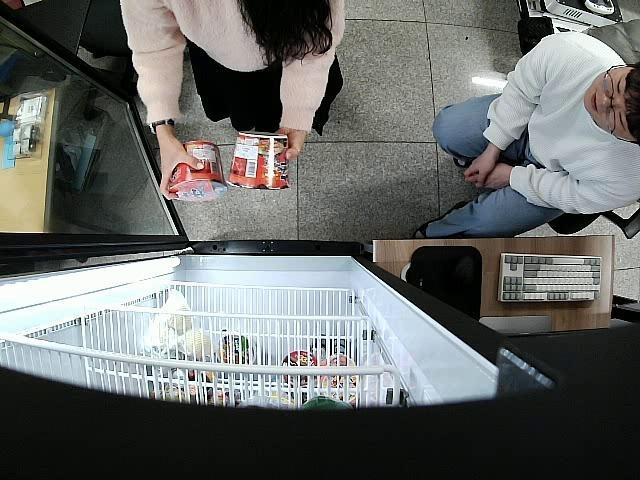01_ShinRamen_L: (226, 130, 293, 190), (165, 139, 227, 203)
